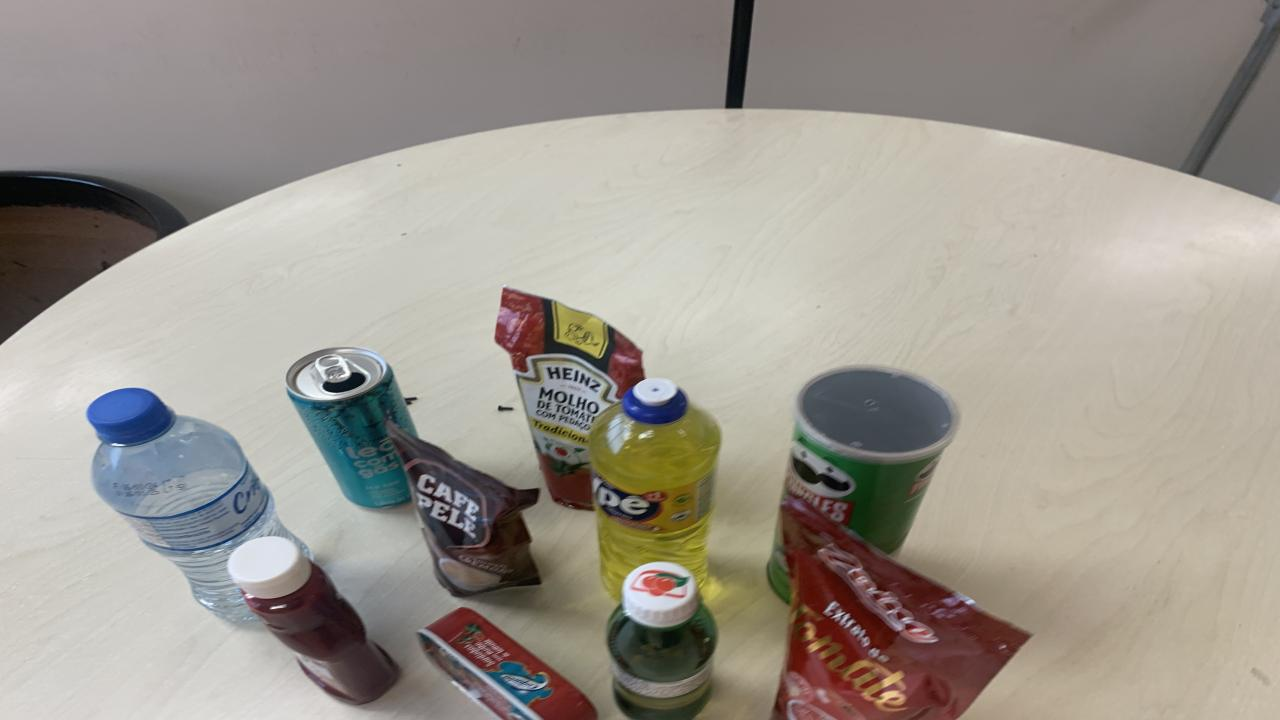Coffee-Pantry_Items: (388, 422, 540, 596)
Detergent-Cleanup_Items: (590, 377, 722, 598)
Guarana-Drinks: (608, 562, 718, 718)
Ketchup-Pantry_Items: (228, 536, 400, 703)
Pringles-Snacks: (785, 368, 960, 553)
Tea-Drinks: (285, 347, 415, 508)
Tomato_Sauce-Pantry_Items: (772, 497, 1030, 720), (495, 287, 645, 510)
Tuna_Can-Pantry_Items: (418, 608, 598, 720)
Water_Bottle-Drinks: (88, 388, 295, 621)
